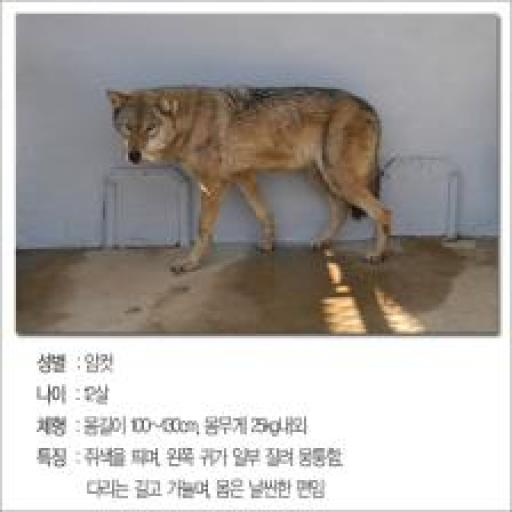wolf: (96, 73, 419, 274)
